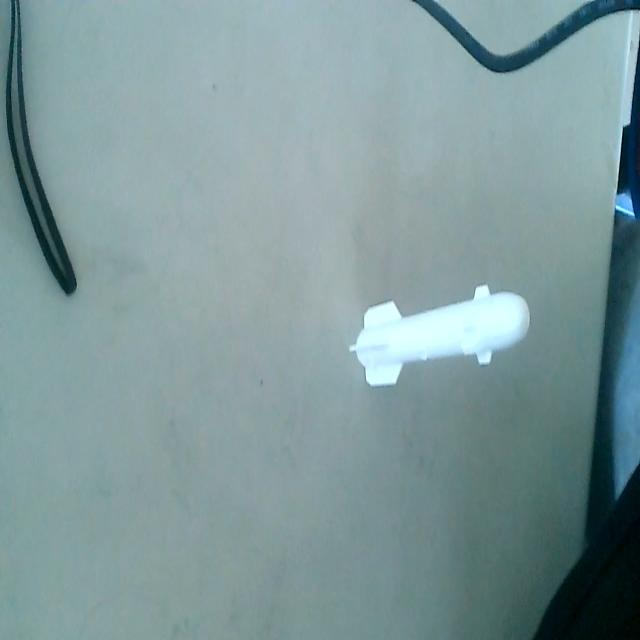Rocket: (348, 284, 537, 394)
